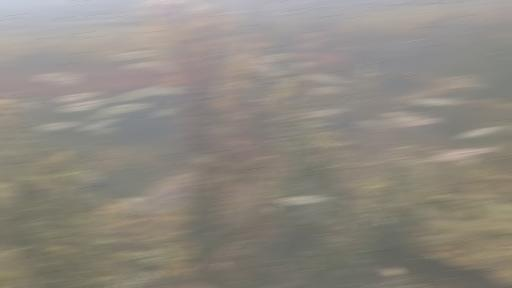Fish: (120, 175, 187, 210), (117, 85, 180, 101), (432, 147, 495, 161), (117, 85, 162, 101), (60, 99, 109, 111), (125, 62, 178, 73), (460, 126, 507, 138), (387, 117, 440, 126), (36, 74, 79, 85), (83, 117, 119, 130), (356, 120, 397, 131), (104, 103, 149, 113), (280, 196, 329, 205), (414, 98, 468, 106), (56, 92, 99, 102), (251, 64, 284, 77), (113, 51, 160, 60), (252, 53, 293, 63), (73, 170, 102, 184), (305, 108, 350, 117), (307, 74, 350, 83), (36, 73, 79, 82), (37, 122, 80, 130), (229, 55, 254, 66), (153, 62, 178, 73), (277, 78, 298, 89), (311, 87, 342, 94), (87, 112, 116, 119), (154, 88, 181, 95), (55, 78, 80, 85), (303, 121, 332, 127), (94, 127, 113, 136), (155, 108, 176, 116), (18, 102, 41, 108), (385, 112, 418, 116)
